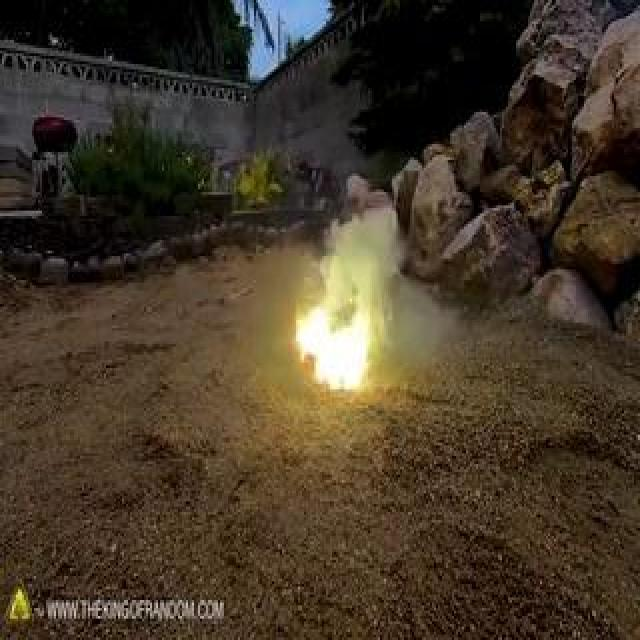fire: (301, 296, 376, 397)
